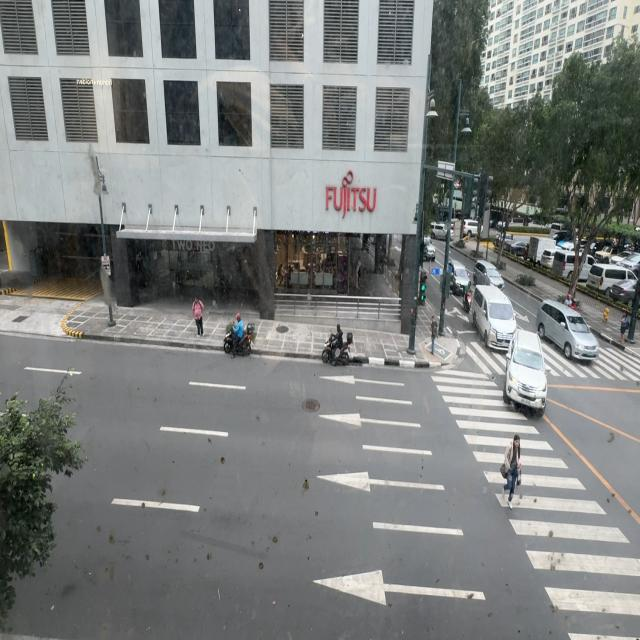crossing: (500, 434, 519, 507)
pedestrain: (192, 297, 205, 338), (430, 314, 438, 355)
waiting: (620, 312, 629, 344)
